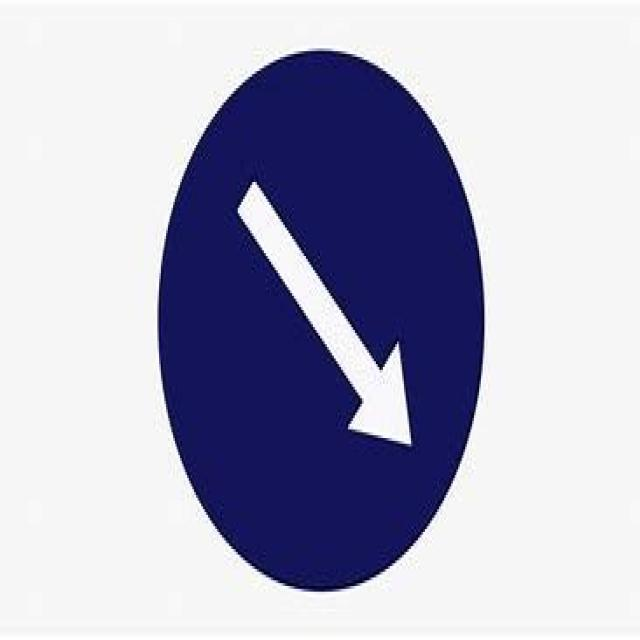COMPULSARY_KEEP_RIGHT: (154, 48, 482, 592)
